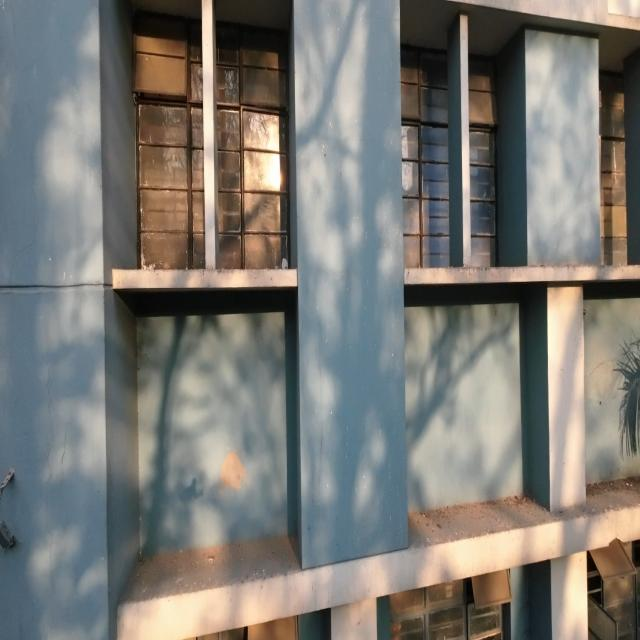Crack: (43, 366, 67, 626)
